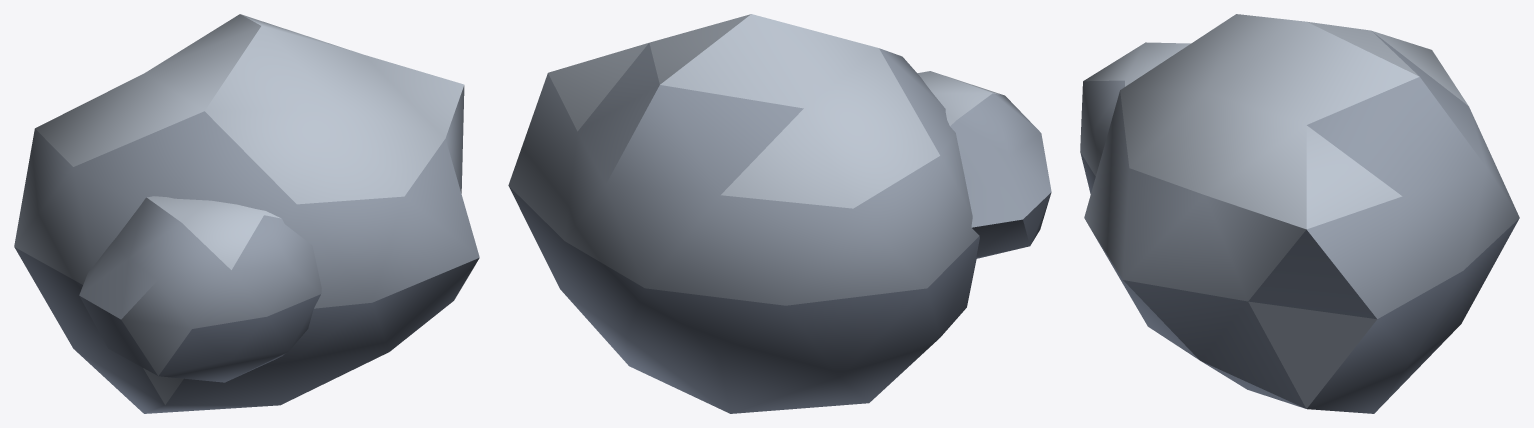
The model's file is rock_b.fbx.
The picture shows the model from 3 angles, left to right: view 1: azimuth 30°, elevation 25°; view 2: azimuth 150°, elevation 25°; view 3: azimuth 270°, elevation 25°; orthographic projection.
Visible parts, largest first — view 1: rock_b; view 2: rock_b; view 3: rock_b.
Part boxes in pixels (x1,y1,x2,y2): rock_b: [14, 14, 479, 413]; rock_b: [508, 14, 1051, 413]; rock_b: [1080, 14, 1519, 413].
Size of the model in its own units: 0.7692 by 0.6311 by 0.6736.
